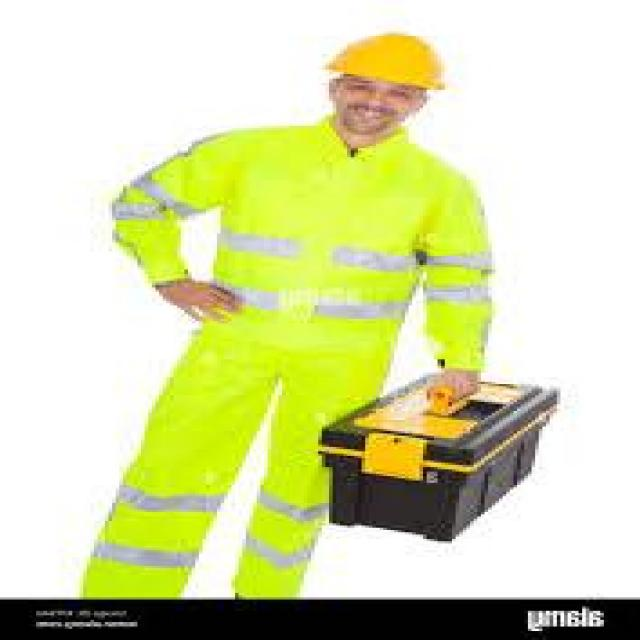Reflective-Jacket: (108, 124, 510, 388)
Safety-Helmet: (311, 24, 463, 96)
